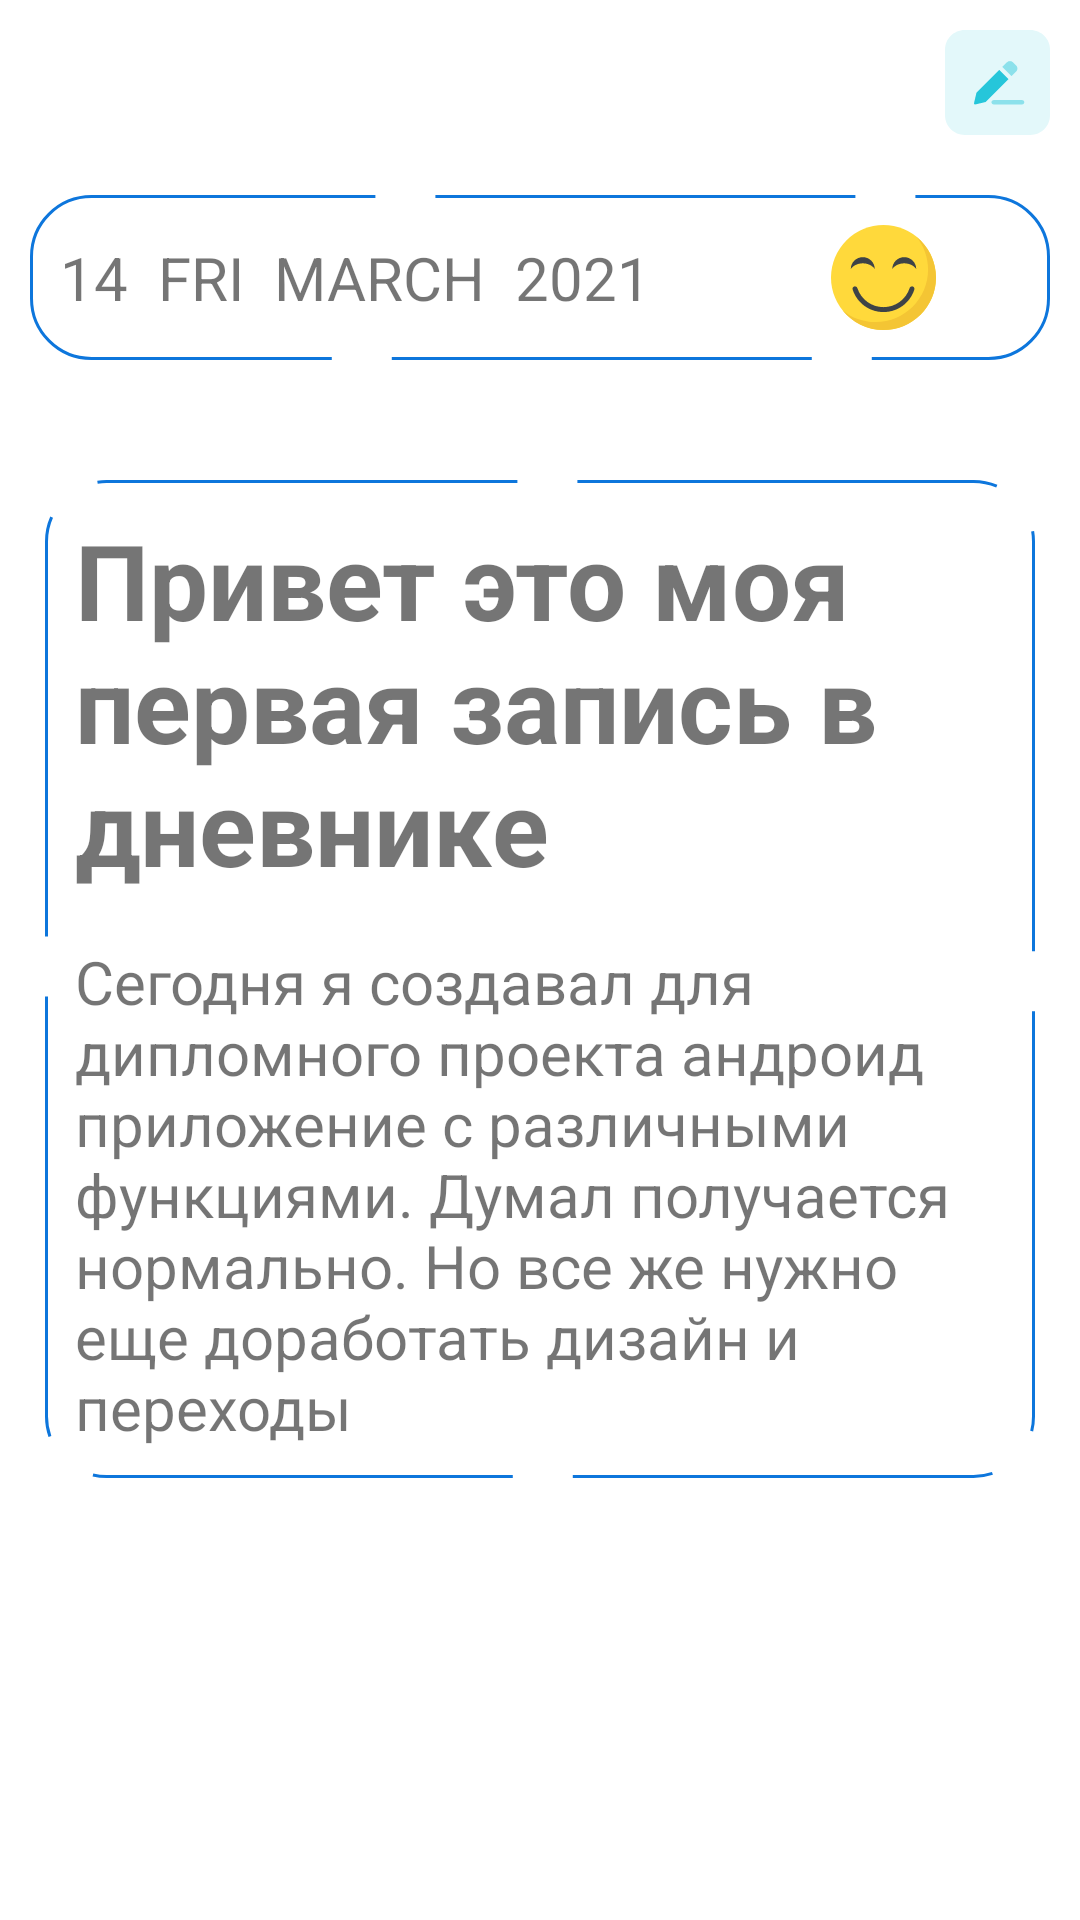

Screen size 1080*1920. Icon name, then its box in pixels as bbox(x1, y1, x2, y2):
emoji happy: bbox(831, 225, 936, 330)
pencil: bbox(945, 30, 1050, 135)
